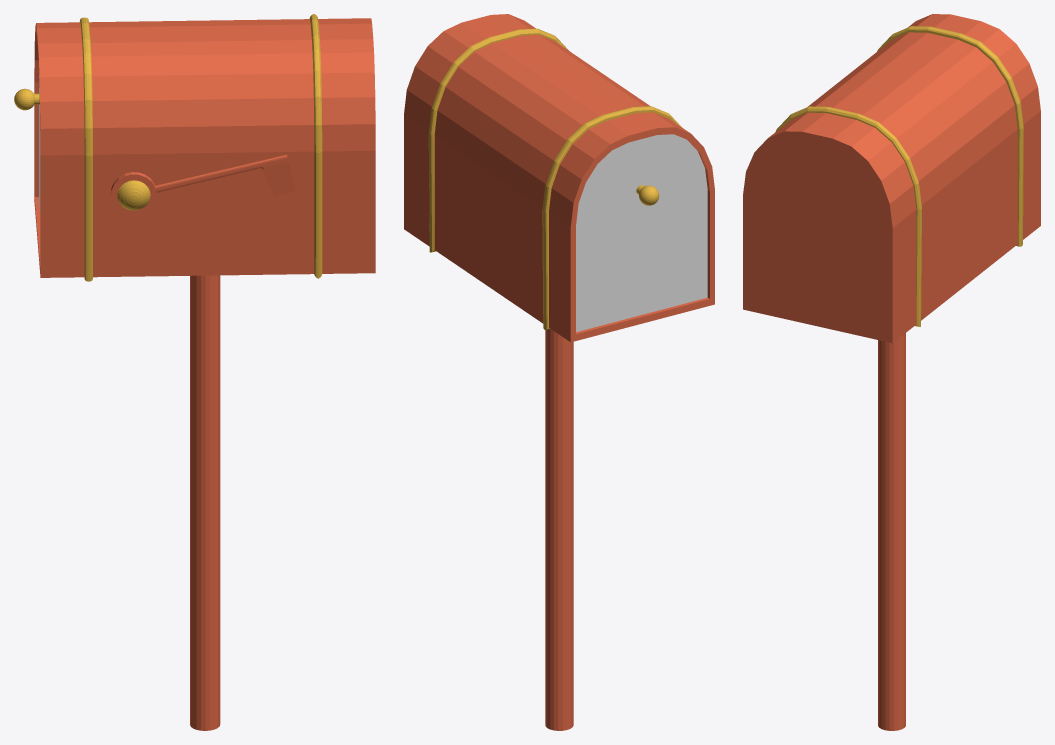
Rendered from mailbox.glb.
3 renders of one model, left to right at view 1: azimuth 30°, elevation 25°; view 2: azimuth 150°, elevation 25°; view 3: azimuth 270°, elevation 25°, orthographic. The views are drawn at different scales.
Visible parts, largest first — view 1: Cube; view 2: Cube; view 3: Cube.
Part boxes in pixels (<box>): Cube: <box>14,14,375,730</box>; Cube: <box>404,14,714,730</box>; Cube: <box>743,14,1040,730</box>.
Bounding box in the file's own units: 0.692 × 1.39 × 0.5763.
